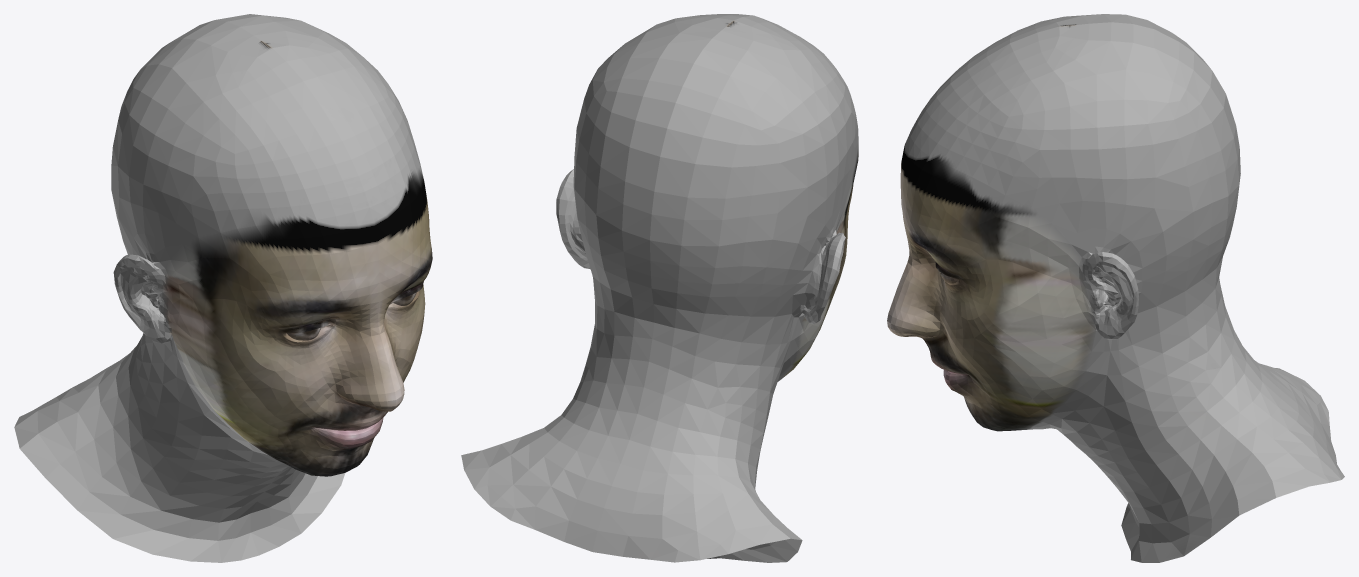
Rendered from ezgif-frame-026.obj.
3 views of the same model, side by side, from view 1: azimuth 30°, elevation 25°; view 2: azimuth 150°, elevation 25°; view 3: azimuth 270°, elevation 25° (orthographic). The views are drawn at different scales.
Bounding box in the file's own units: 0.2084 × 0.3288 × 0.2646.
Materials: 1 (1 with a texture image).
